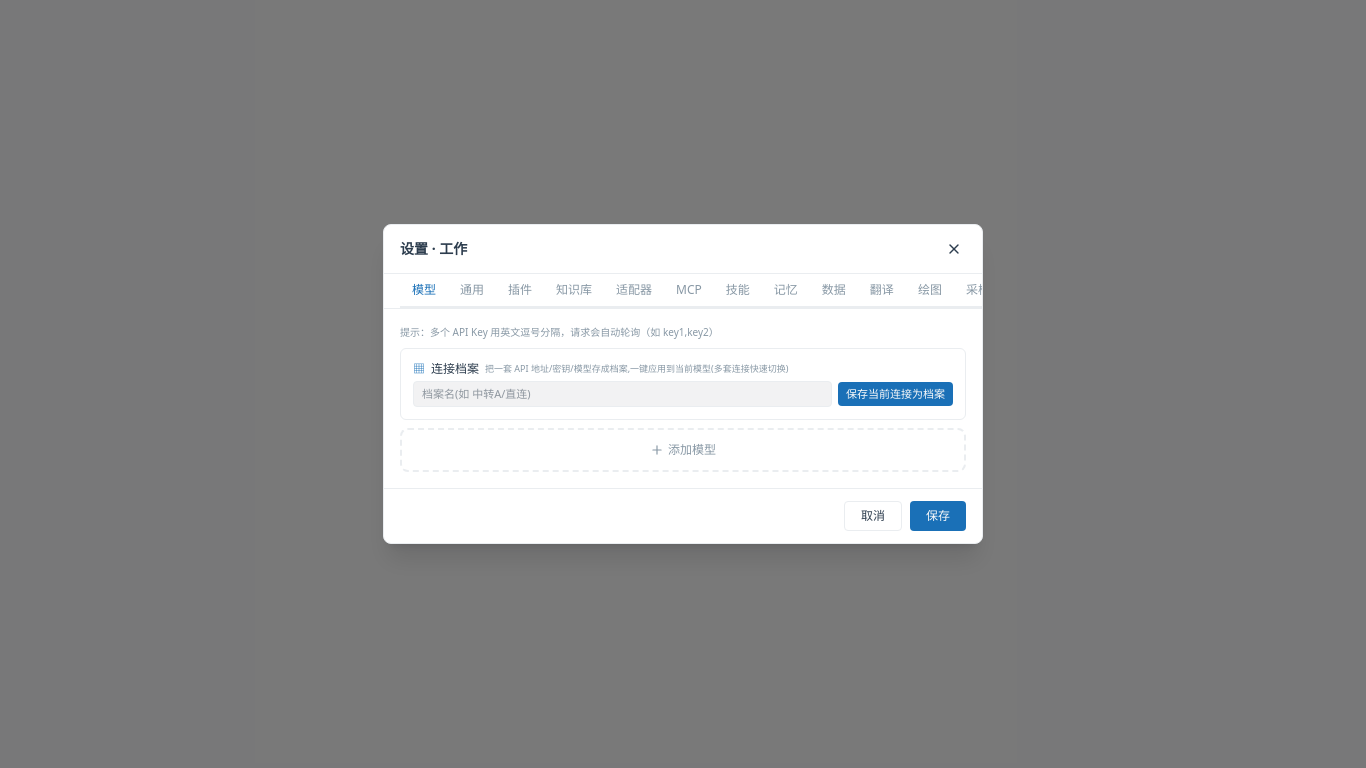
SettingsDialog — 绘图 tab › probe 失败 → 状态区显示可读错误（含原始错误文本）
Click the button "绘图" at [930, 291], box [906, 274, 954, 308]
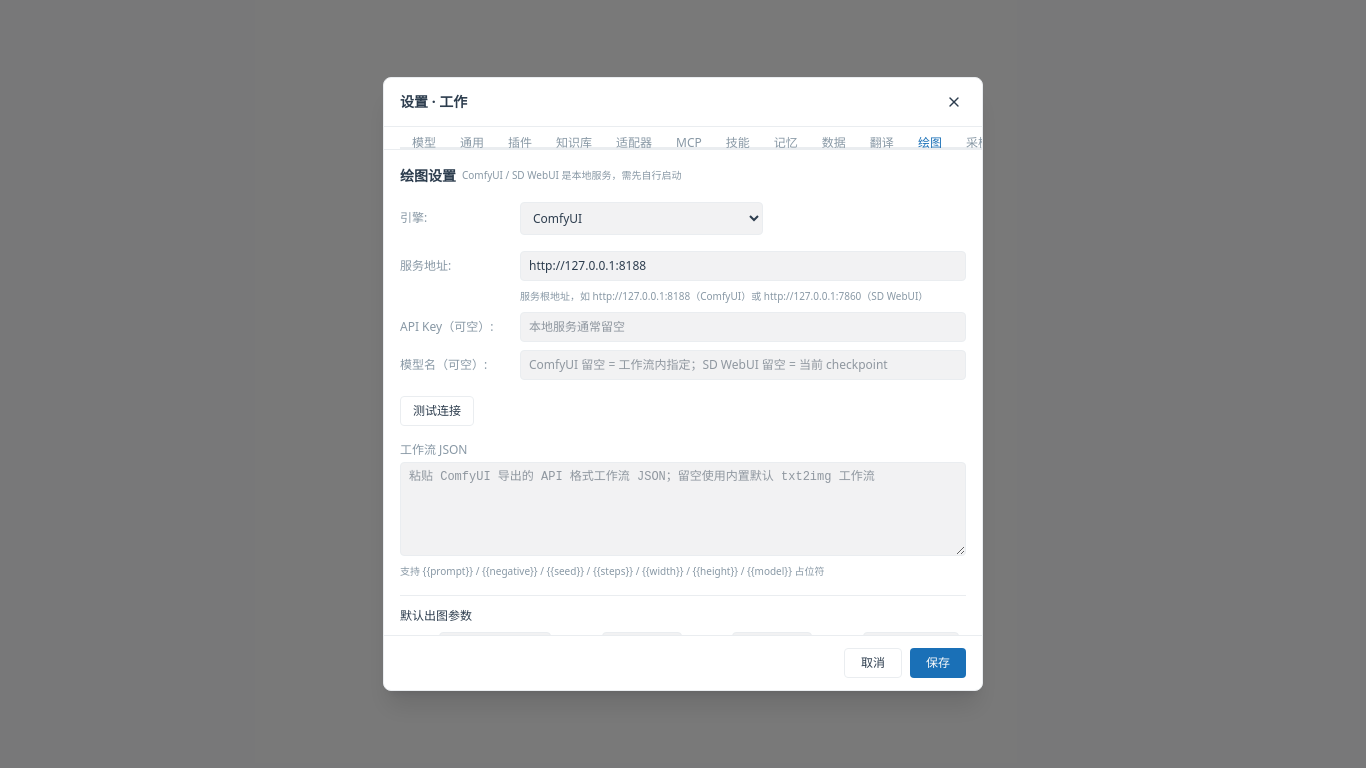
Click the button "测试连接" at [437, 411], box [400, 396, 474, 426]
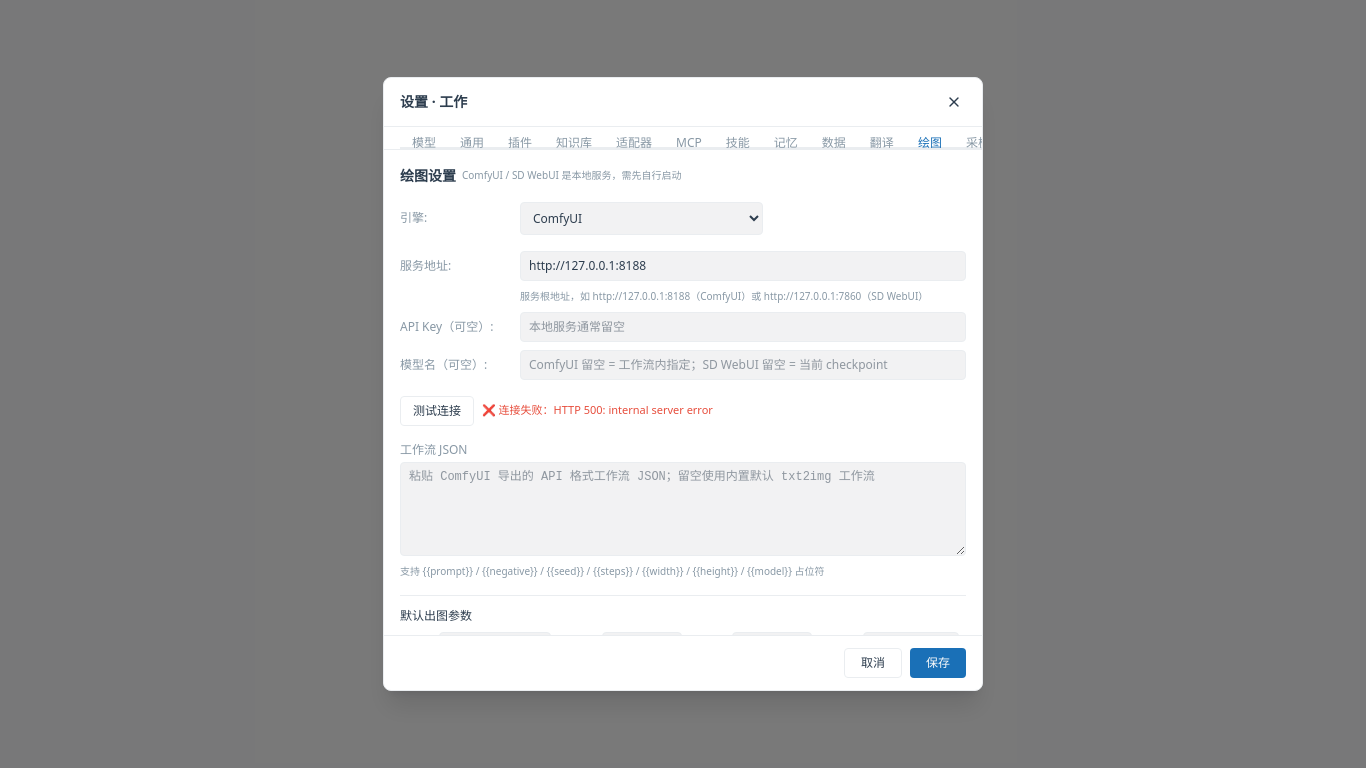
Now the message shows "连接失败", box [482, 402, 713, 418]
Now the message shows "HTTP 500", box [482, 402, 713, 418]
